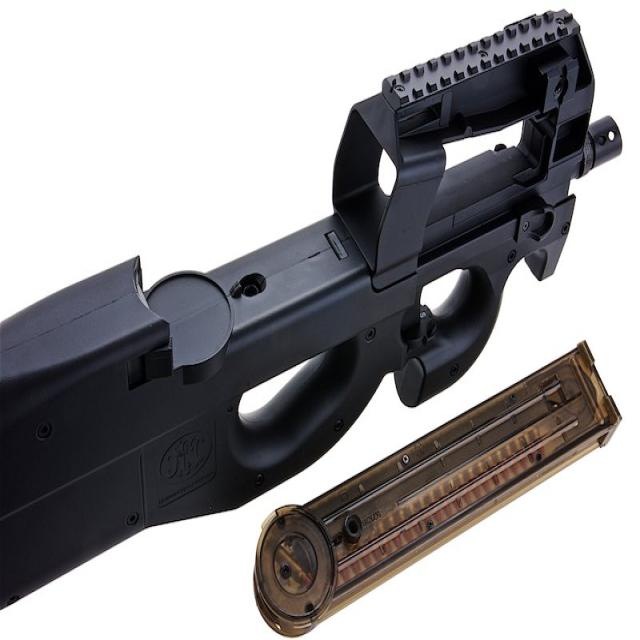Gun: (2, 8, 620, 599)
